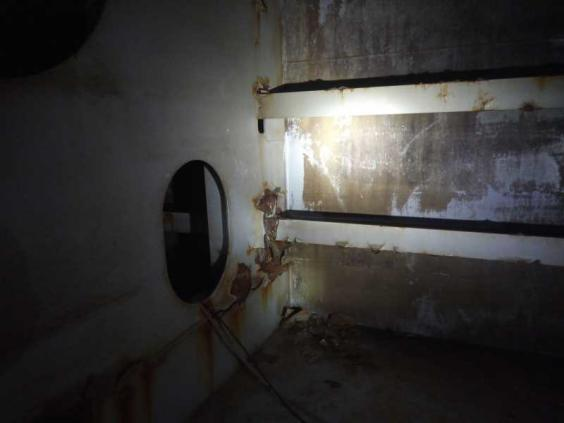corrosion: (253, 216, 294, 275), (199, 311, 225, 377), (224, 254, 257, 300), (252, 182, 287, 215), (225, 304, 258, 334), (246, 2, 267, 43), (252, 94, 271, 133), (435, 79, 452, 106), (471, 93, 498, 110), (248, 69, 269, 88), (529, 78, 546, 95)
